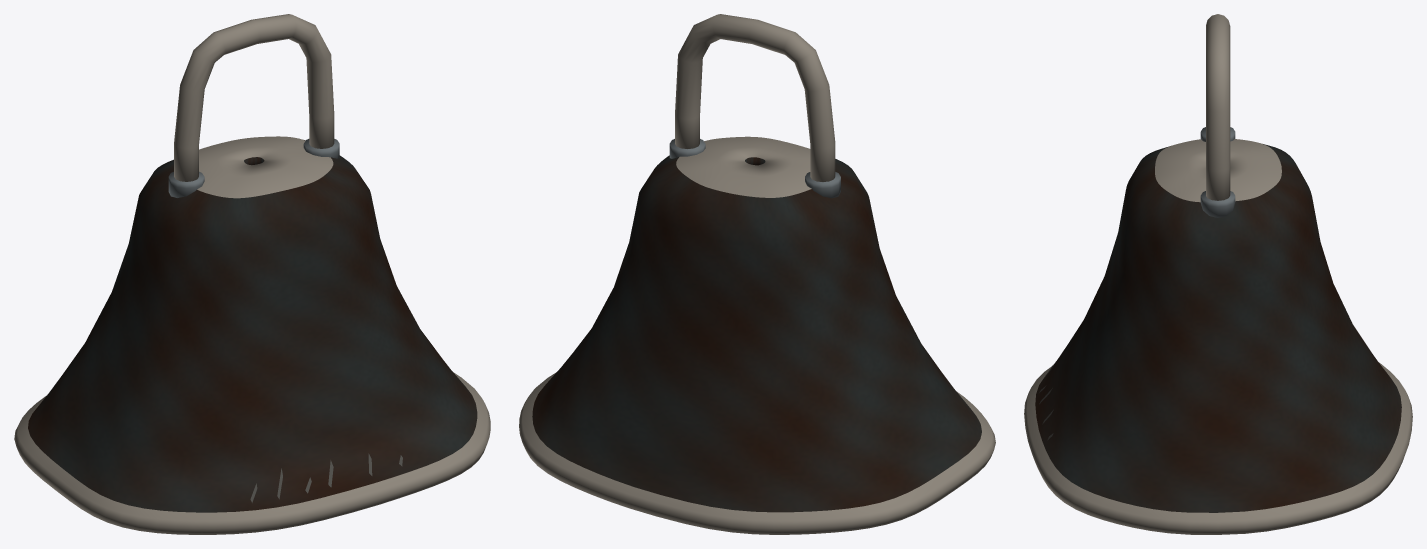
File: harl_cart_bell.glb
3 views of the same model, side by side, from view 1: azimuth 30°, elevation 25°; view 2: azimuth 150°, elevation 25°; view 3: azimuth 270°, elevation 25° (orthographic). The views are drawn at different scales.
Visible parts, largest first — view 1: harl_cart_bell; view 2: harl_cart_bell; view 3: harl_cart_bell.
Part boxes in pixels (x1=…): harl_cart_bell: x1=14, y1=14, x2=490, y2=534; harl_cart_bell: x1=519, y1=14, x2=995, y2=534; harl_cart_bell: x1=1024, y1=14, x2=1412, y2=534.
Size of the model in its own units: 0.14 by 0.1387 by 0.1183.
Materials: 5 (1 with a texture image).
